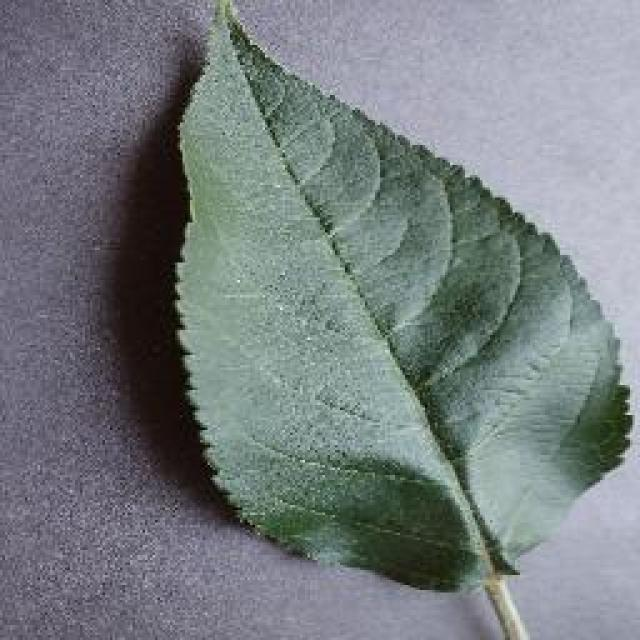apple healthy: (165, 0, 635, 602)
